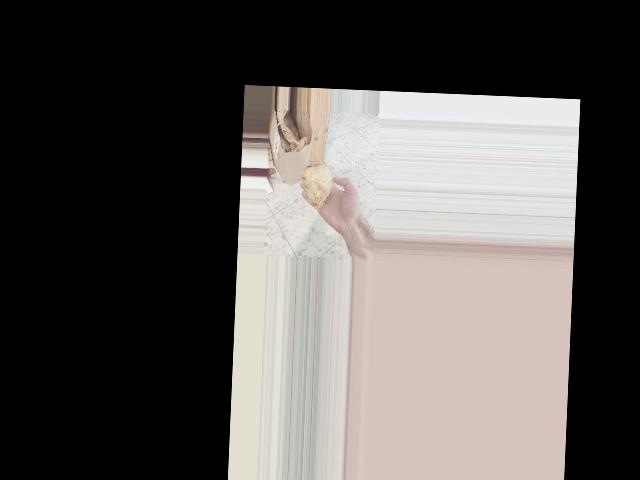onion: (299, 161, 337, 209)
